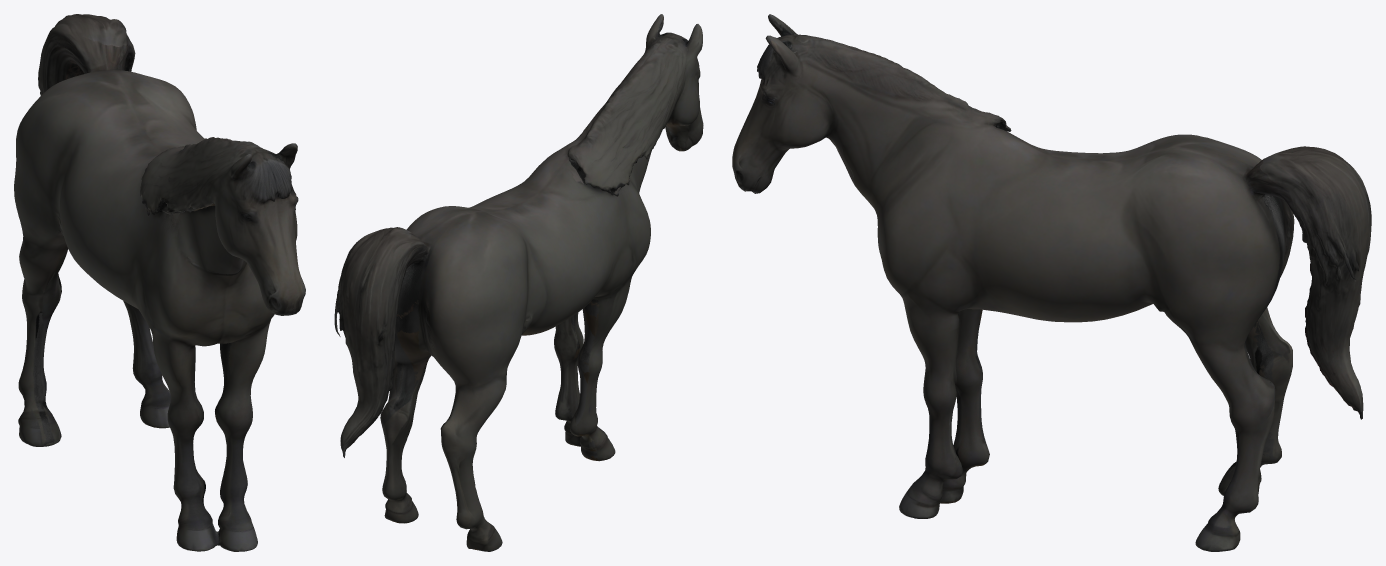
3 renders of one model, left to right at view 1: azimuth 30°, elevation 25°; view 2: azimuth 150°, elevation 25°; view 3: azimuth 270°, elevation 25°, orthographic. The views are drawn at different scales.
Bounding box in the file's own units: 0.622 × 1.61 × 2.
Materials: 1 (1 with a texture image).
